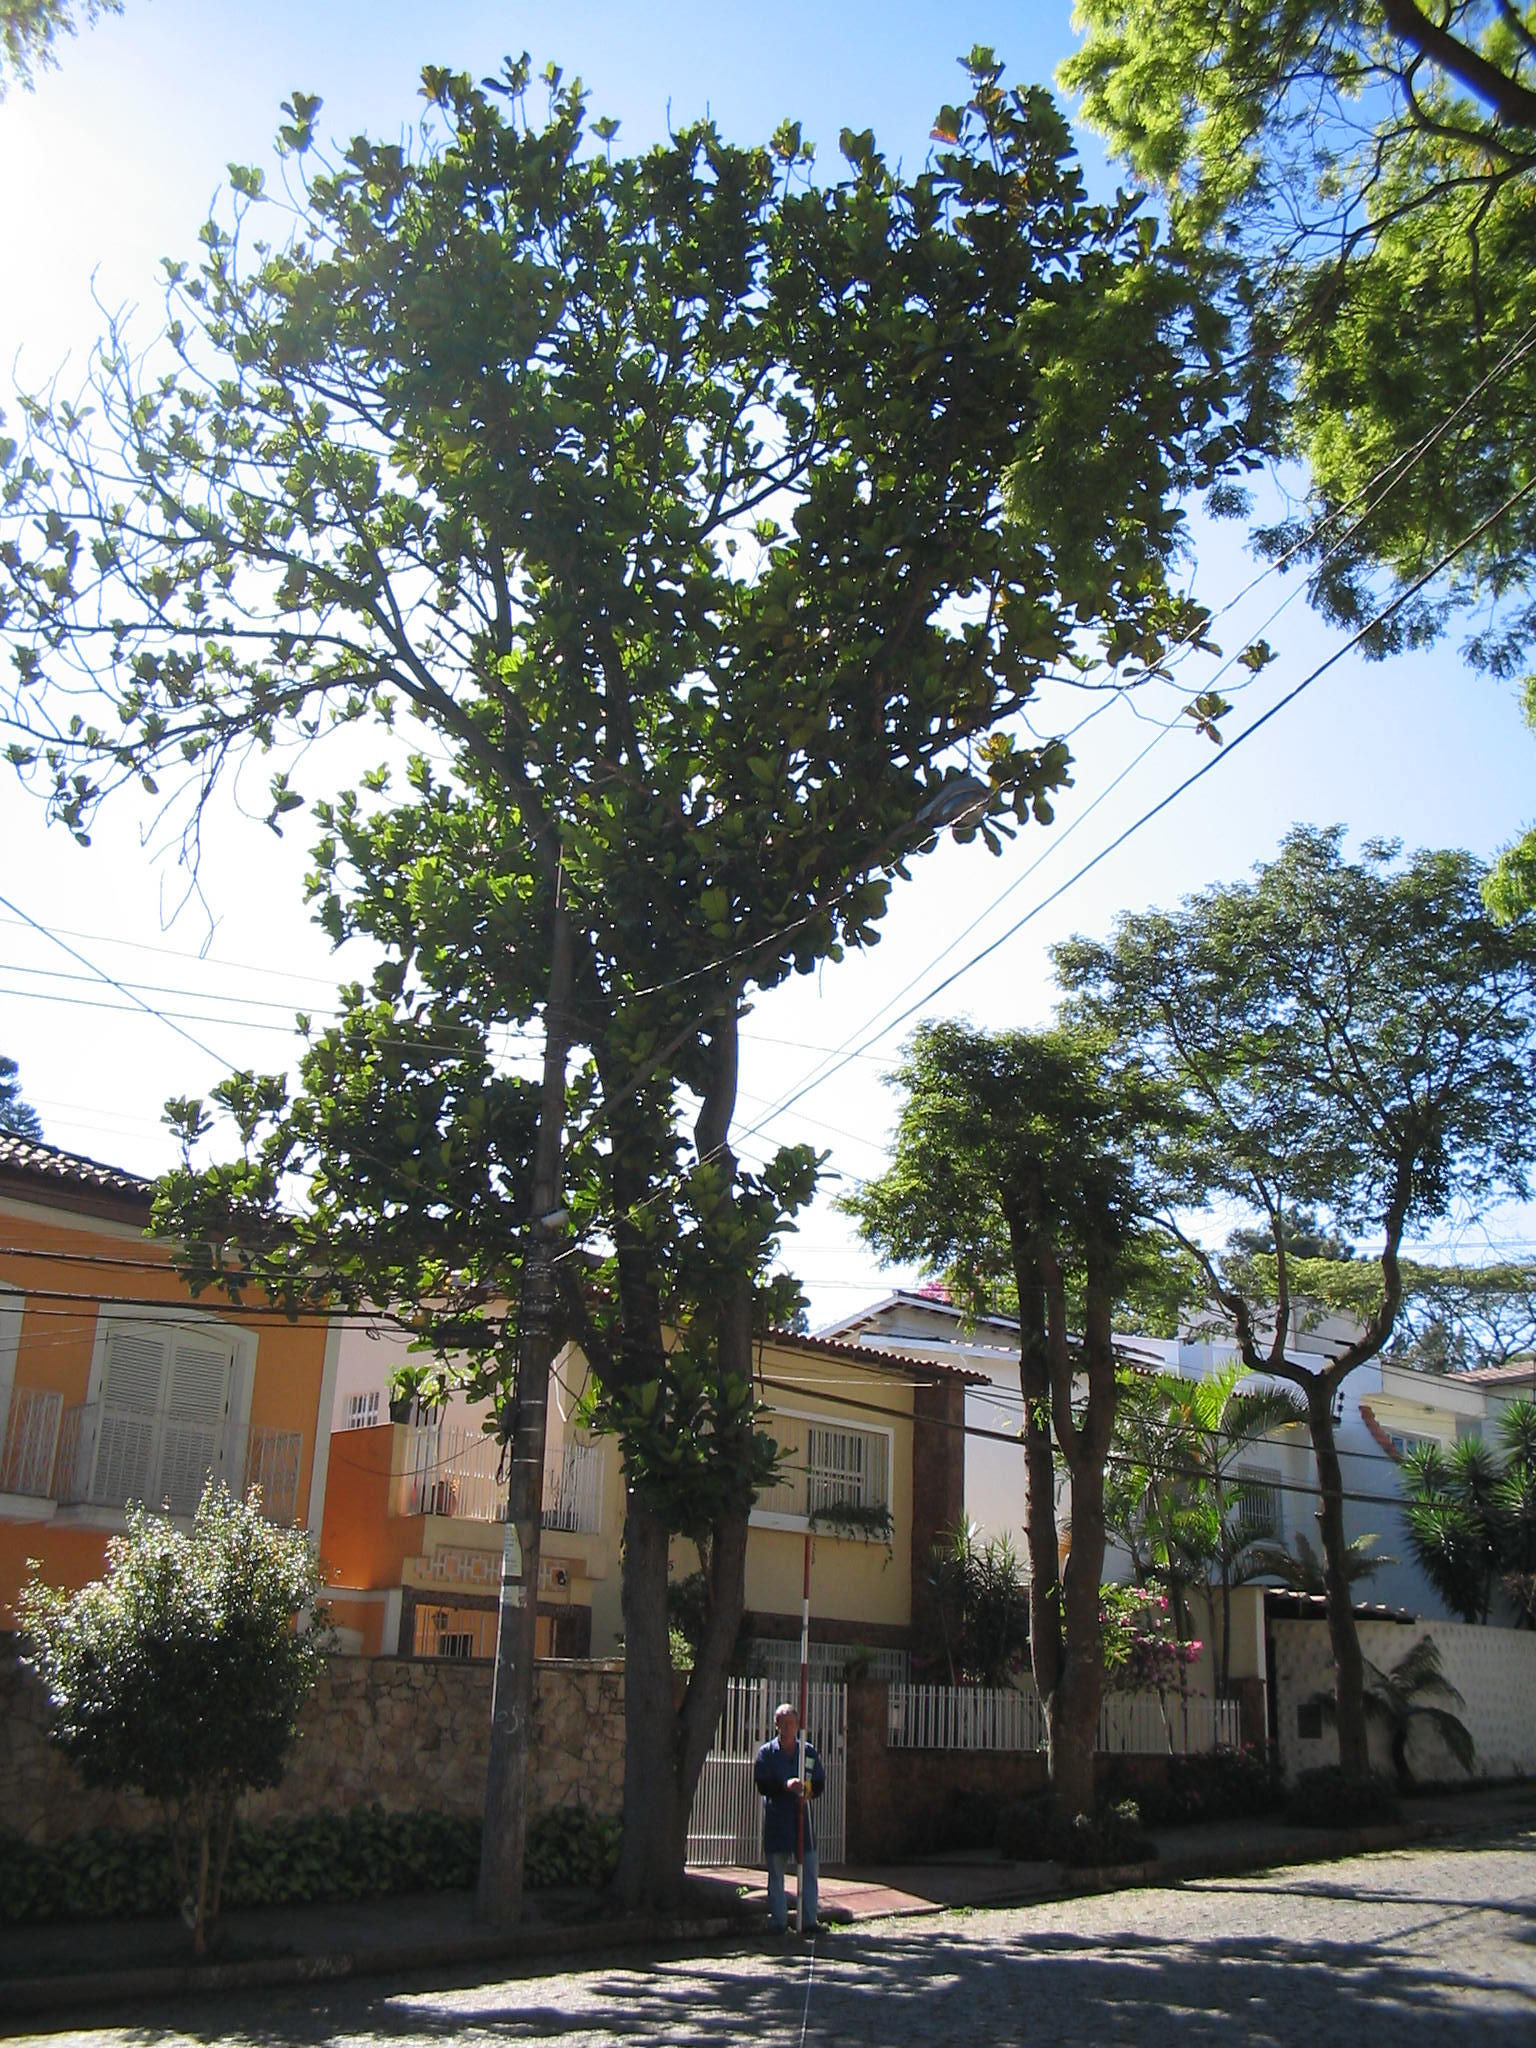crown: (6, 61, 1283, 1182)
stem: (1267, 1387, 1412, 1825), (591, 1696, 749, 1904), (1004, 1696, 1144, 1854)
stick: (779, 1529, 833, 1930)
tree: (2, 55, 1291, 1908), (1070, 840, 1531, 1824), (849, 1018, 1265, 1854)
